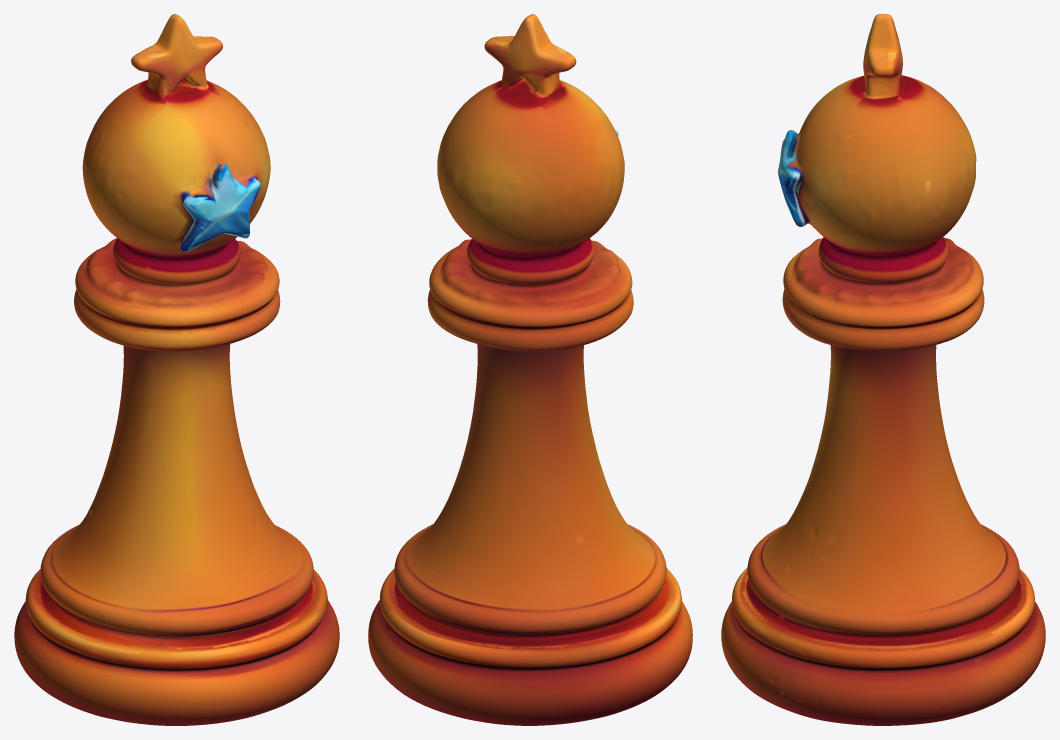
3 views of the same model, side by side, from view 1: azimuth 30°, elevation 25°; view 2: azimuth 150°, elevation 25°; view 3: azimuth 270°, elevation 25° (orthographic).
Parts seen in each view (by area): view 1: texture_v100.001; view 2: texture_v100.001; view 3: texture_v100.001.
Boxes of the visible parts, bbox=[...] form: texture_v100.001: bbox=[14, 14, 339, 725]; texture_v100.001: bbox=[368, 14, 692, 725]; texture_v100.001: bbox=[721, 14, 1045, 725].
Bounding box in the file's own units: 0.5064 × 1.13 × 0.5054.
1 material, 1 textured.
